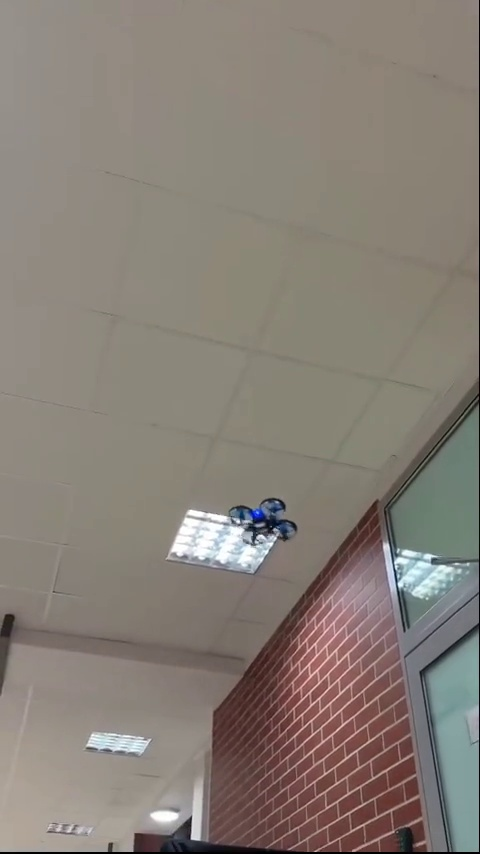drone: (224, 499, 291, 545)
